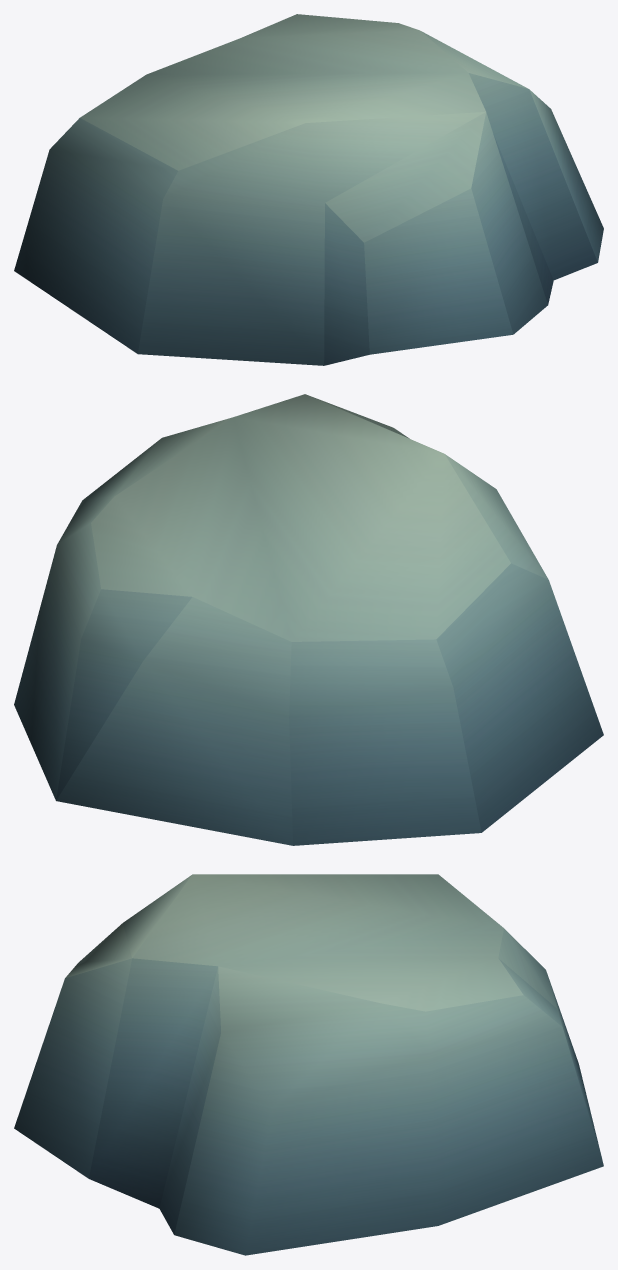
The model's file is Rock 02.FBX.
3 renders of one model, top to bottom at view 1: azimuth 30°, elevation 25°; view 2: azimuth 150°, elevation 25°; view 3: azimuth 270°, elevation 25°, orthographic. The views are drawn at different scales.
Parts seen in each view (by area): view 1: Rock 02; view 2: Rock 02; view 3: Rock 02.
Boxes of the visible parts, box(x1,y1,x2,y2) form: Rock 02: box(14, 14, 603, 365); Rock 02: box(14, 394, 603, 845); Rock 02: box(14, 874, 603, 1255).
Bounding box in the file's own units: 154 × 61.27 × 153.
Materials: 1 (1 with a texture image).
